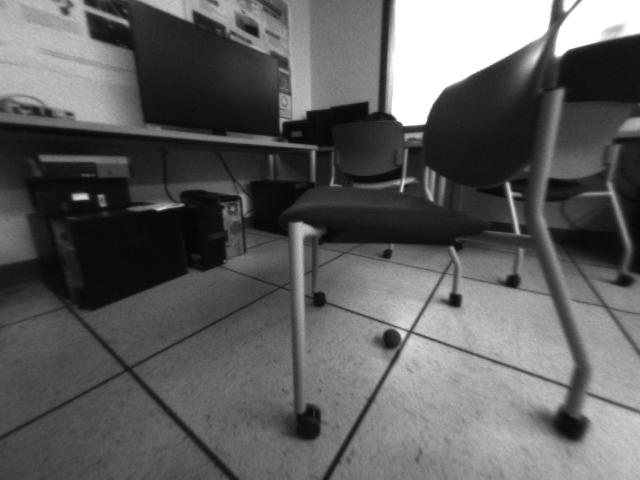dogtoy: (376, 324, 410, 354)
